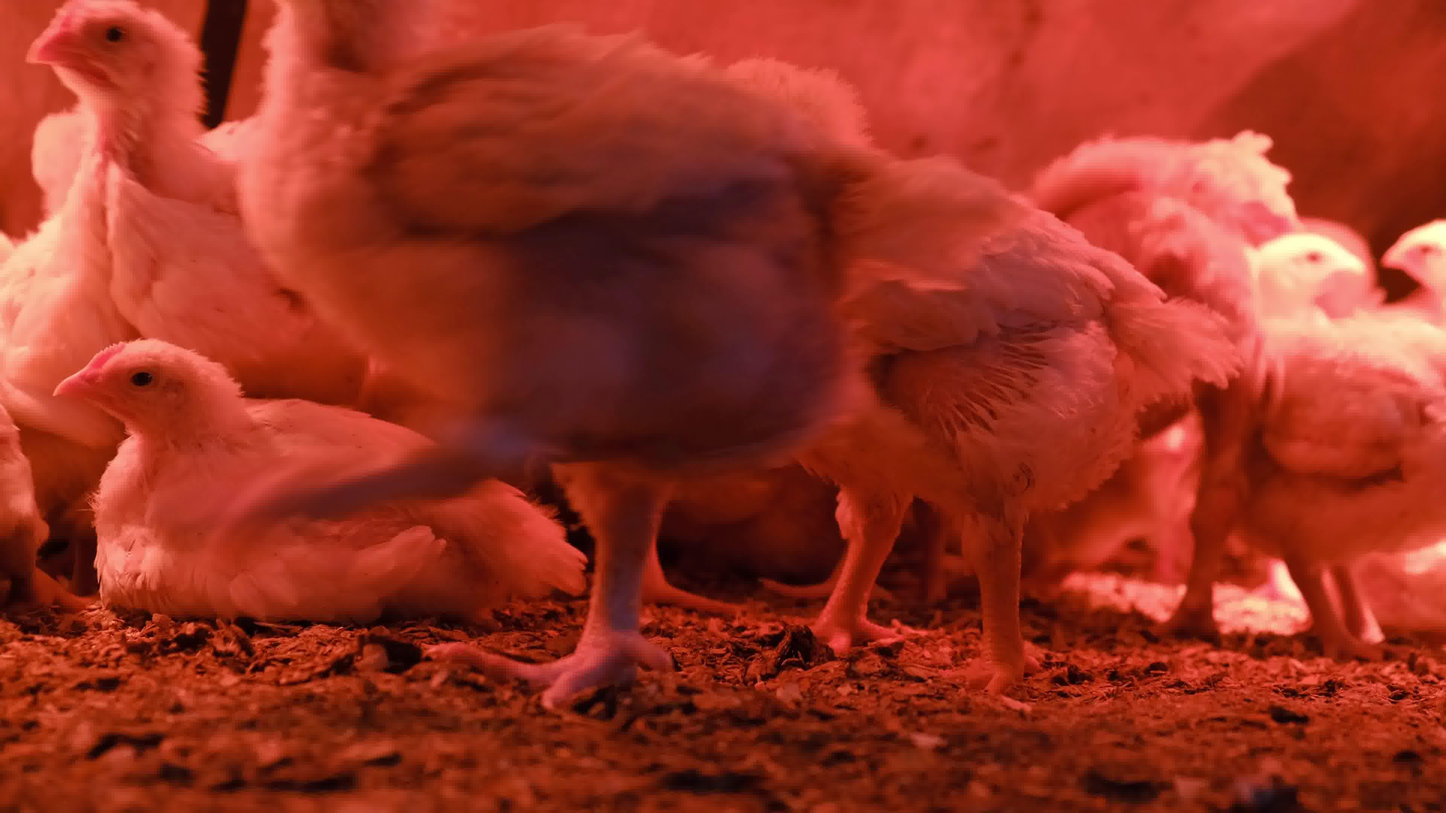AbNormal: (45, 282, 555, 670), (0, 222, 75, 661)
Normal: (239, 6, 872, 749), (847, 151, 1237, 706), (1173, 248, 1446, 711), (11, 0, 367, 326), (9, 85, 126, 220), (1324, 203, 1446, 324), (1235, 199, 1363, 307)
